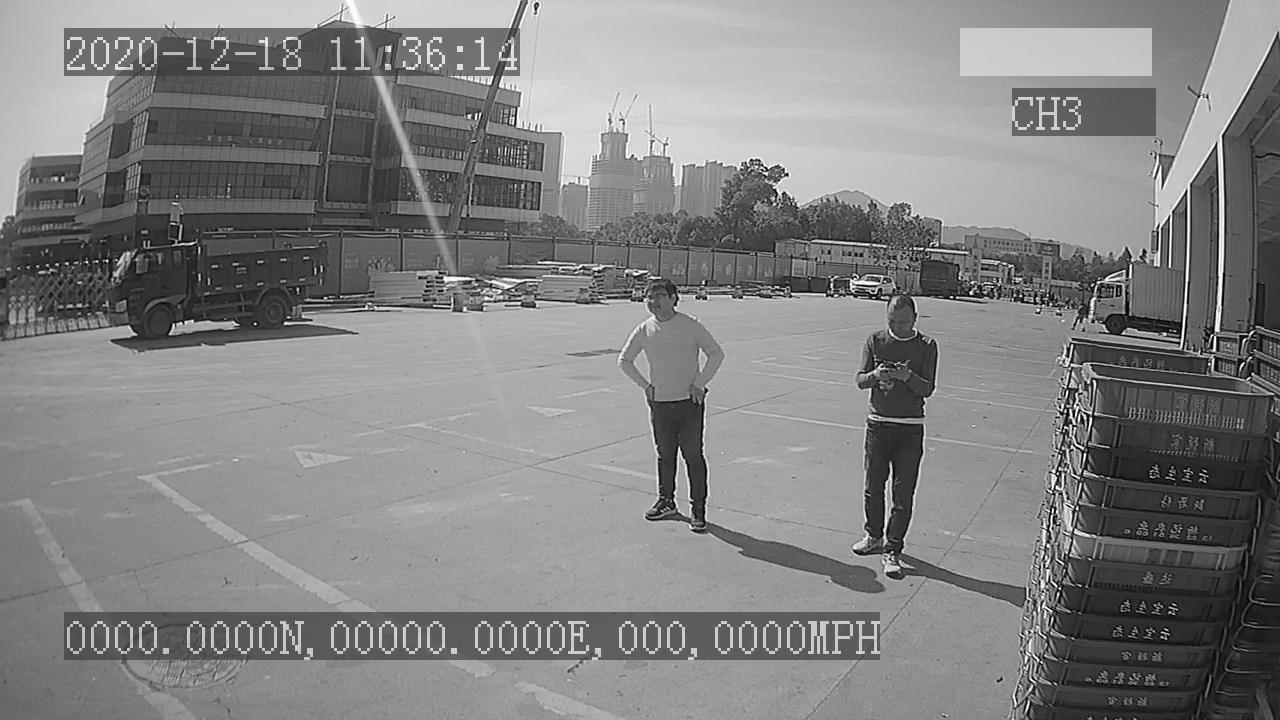person: (619, 276, 727, 528), (846, 293, 940, 579)
